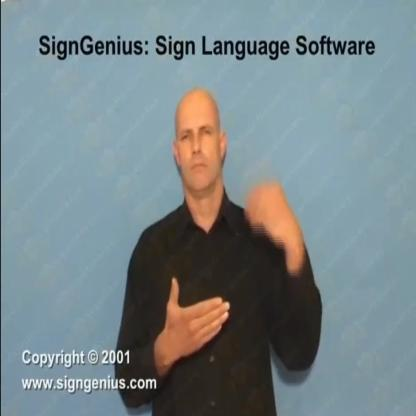Expensive: (162, 185, 297, 359)
